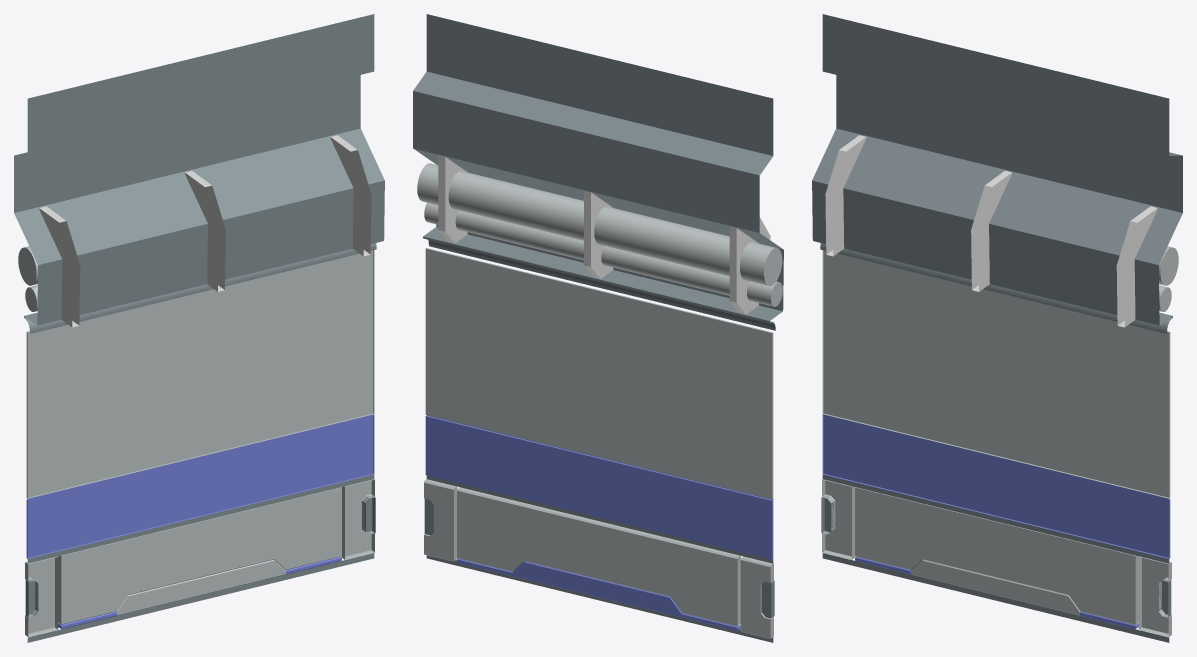
File: WALL-02.fbx
The picture shows the model from 3 angles, left to right: view 1: azimuth 30°, elevation 25°; view 2: azimuth 150°, elevation 25°; view 3: azimuth 330°, elevation 25°; orthographic projection.
Parts seen in each view (by area): view 1: Cube.010; view 2: Cube.010; view 3: Cube.010.
Boxes of the visible parts, x1=… form: Cube.010: x1=14, y1=14, x2=384, y2=642; Cube.010: x1=413, y1=14, x2=783, y2=642; Cube.010: x1=812, y1=14, x2=1182, y2=642.
Size of the model in its own units: 4 by 6 by 0.6967.
